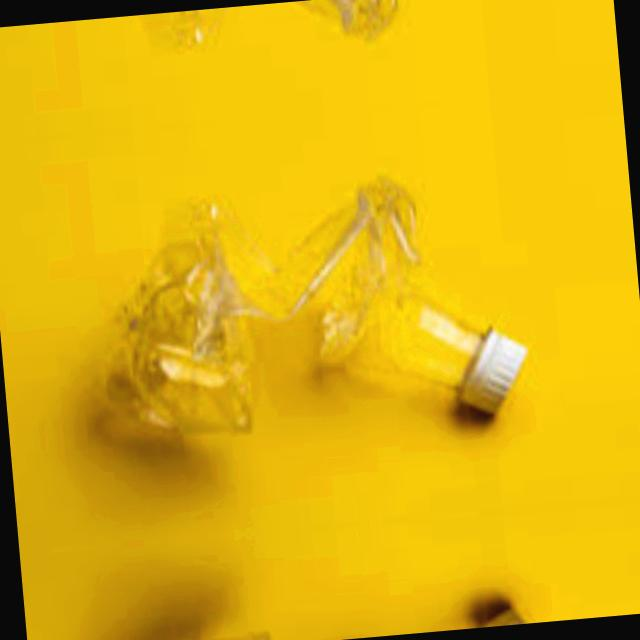Plastic: (62, 151, 552, 497), (97, 555, 566, 640), (47, 0, 515, 78)
